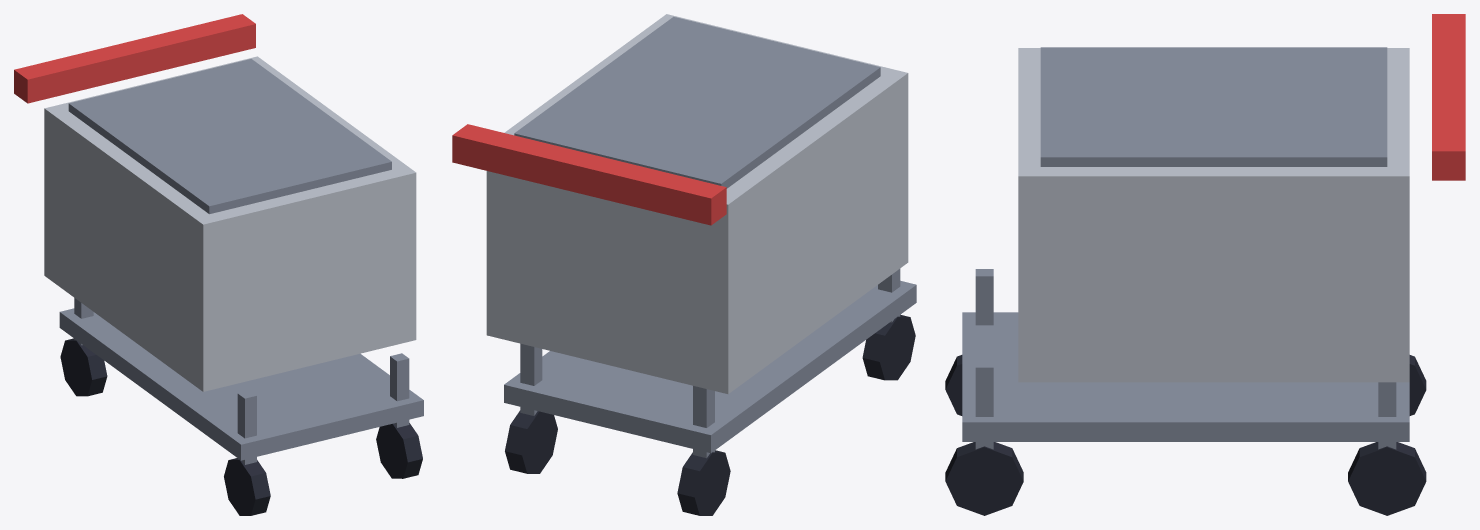
The model's file is shopping-cart.glb.
The picture shows the model from 3 angles, left to right: view 1: azimuth 30°, elevation 25°; view 2: azimuth 150°, elevation 25°; view 3: azimuth 270°, elevation 25°; orthographic projection. The views are drawn at different scales.
Visible parts, largest first — view 1: shopping-cart; view 2: shopping-cart; view 3: shopping-cart.
Boxes of the visible parts, box(x1,y1,x2,y2) form: shopping-cart: box(14, 14, 423, 515); shopping-cart: box(452, 14, 916, 515); shopping-cart: box(945, 14, 1465, 515).
Bounding box in the file's own units: 0.3 × 0.39 × 0.48.
1 material, 1 textured.
